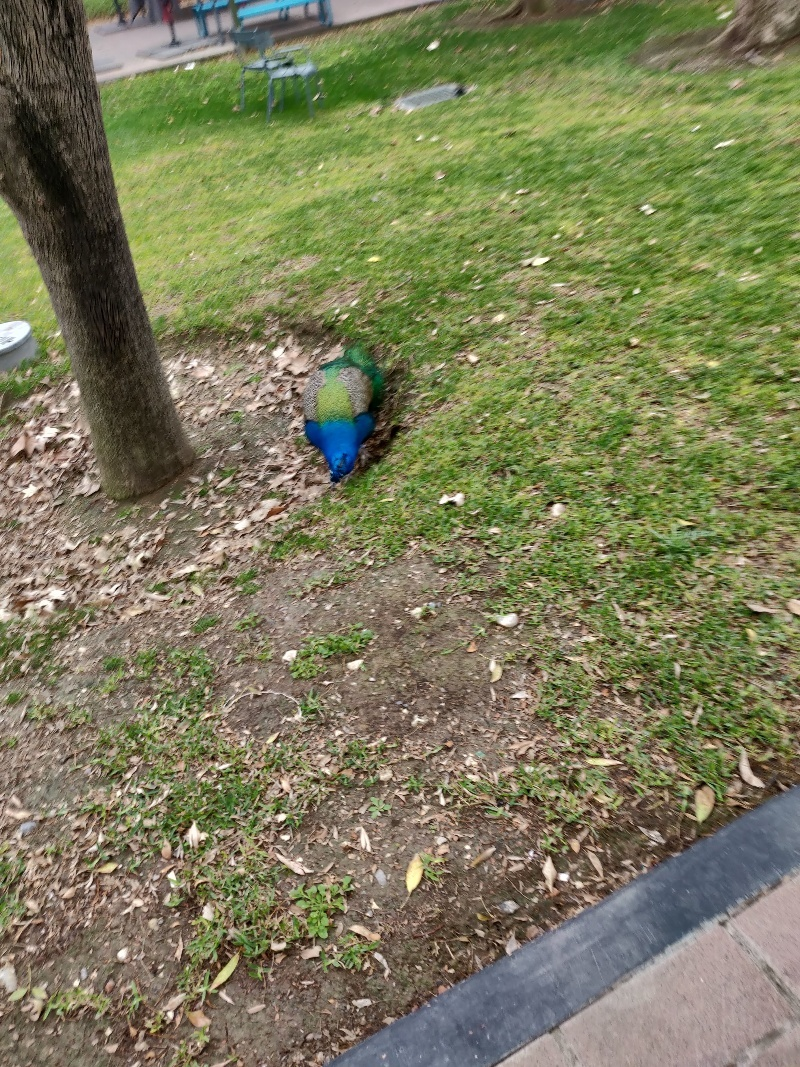pavoreal: (306, 348, 380, 473)
